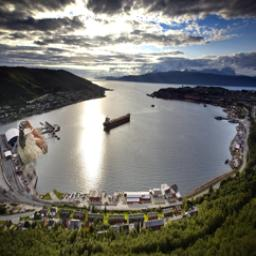Sparrow: (18, 120, 49, 171)
